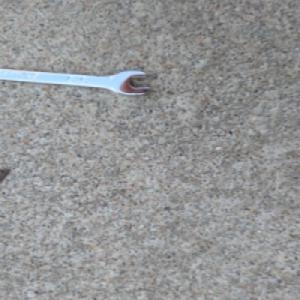Wrench: (0, 66, 153, 97)
